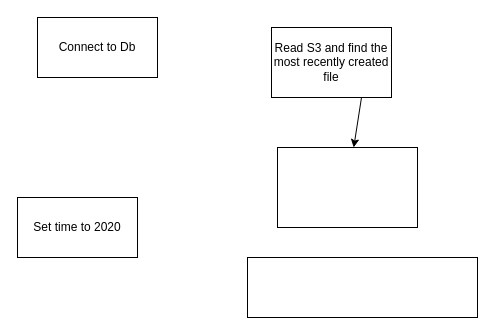
The diagram is 495 pixels wide and 335 high, and some of its shapes have lost their labels. Each missing label, with the centre of its shape:
Do for each table query for each table based on date updated: point (347, 187)
Write to S3 bucket Filename: <table name>/ timestamp: point (362, 287)
